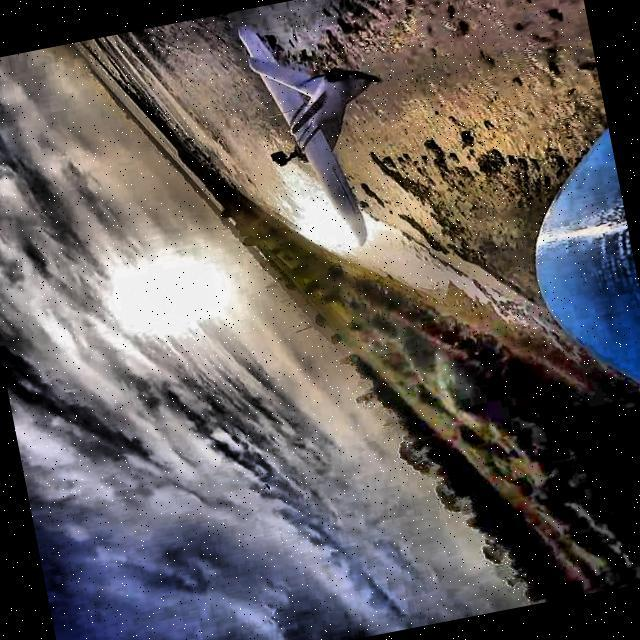iha: (225, 0, 407, 269)
